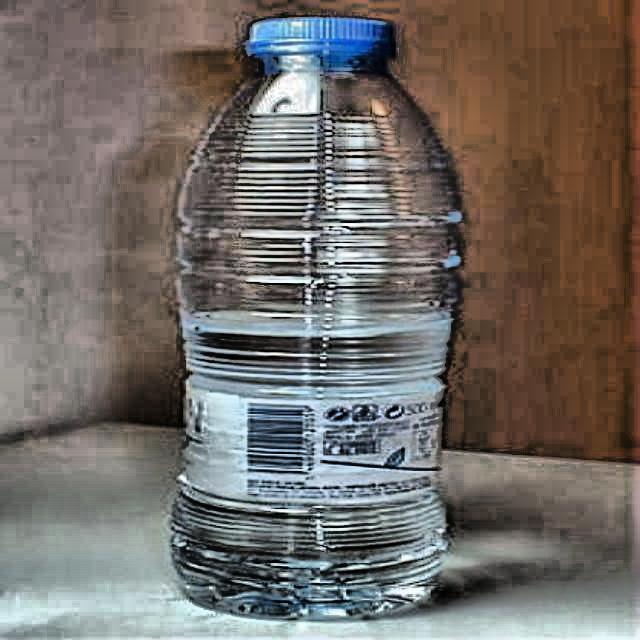Bottles: (153, 14, 461, 616)
